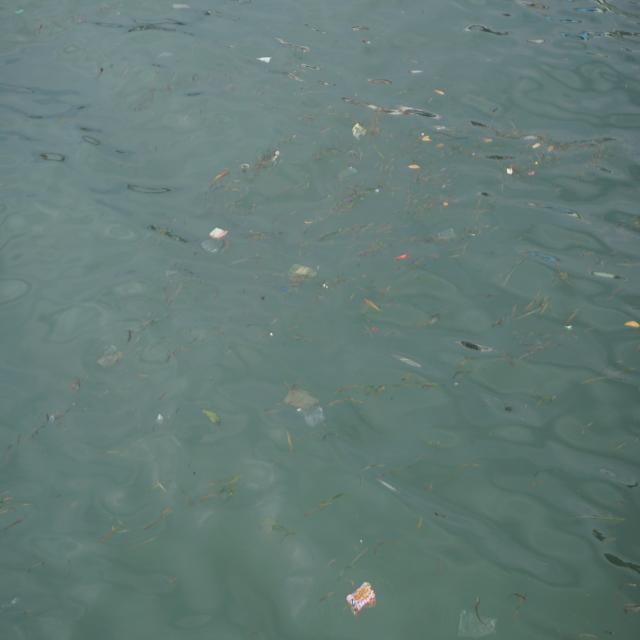Botol Plastik: (376, 190, 382, 195)
Bungkus Makanan: (347, 581, 378, 618), (211, 225, 229, 244), (352, 123, 368, 142)
Bungkus Minuman: (242, 163, 251, 176)
Kantong Plastik: (287, 385, 326, 432), (458, 606, 499, 640), (290, 262, 318, 283), (439, 228, 457, 242)
